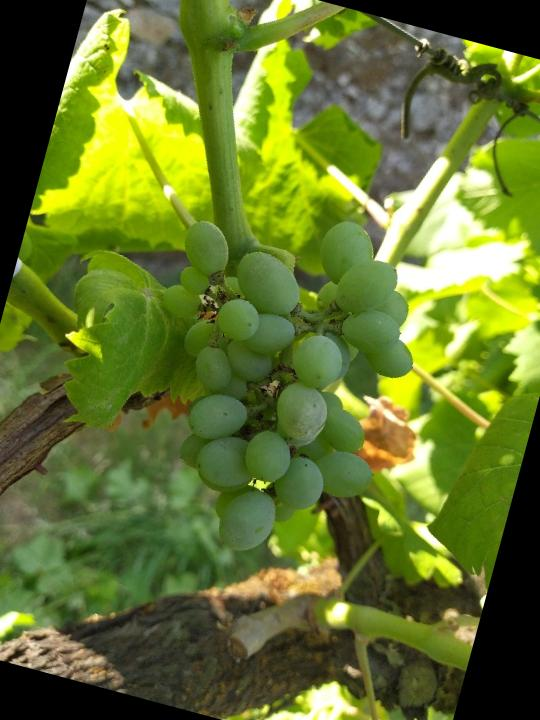grape: (101, 174, 449, 591)
